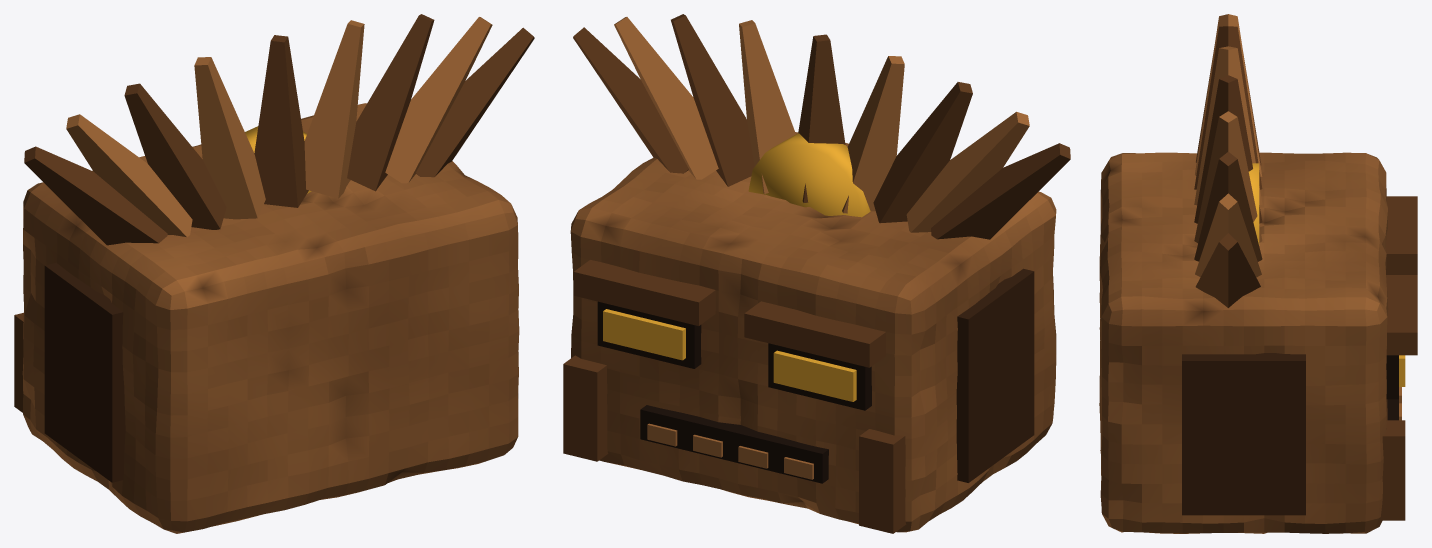
Rendered from golem_head.glb.
3 views of the same model, side by side, from view 1: azimuth 30°, elevation 25°; view 2: azimuth 150°, elevation 25°; view 3: azimuth 270°, elevation 25° (orthographic). The views are drawn at different scales.
Visible parts, largest first — view 1: golem_head; view 2: golem_head; view 3: golem_head.
Part boxes in pixels (x1=…): golem_head: x1=14, y1=14, x2=534, y2=533; golem_head: x1=563, y1=14, x2=1070, y2=533; golem_head: x1=1099, y1=14, x2=1417, y2=533.
Bounding box in the file's own units: 1.75 × 1.37 × 1.03.
